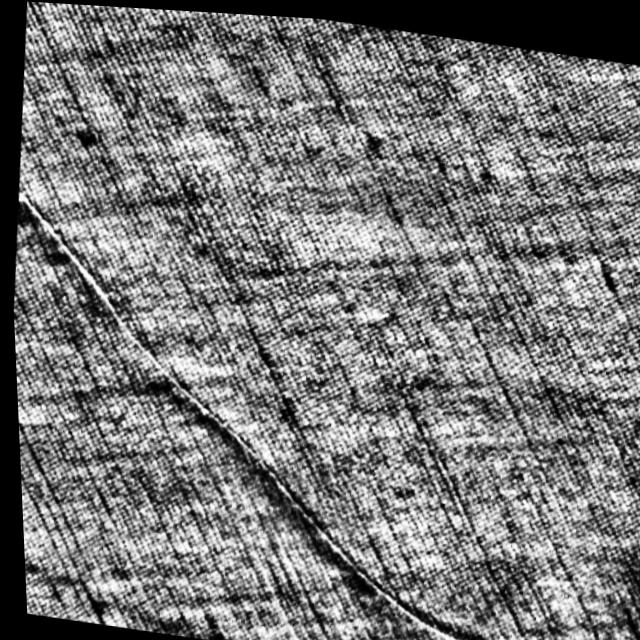Stitch: (237, 452, 353, 549), (93, 306, 214, 386), (391, 598, 564, 640), (20, 204, 108, 269)
